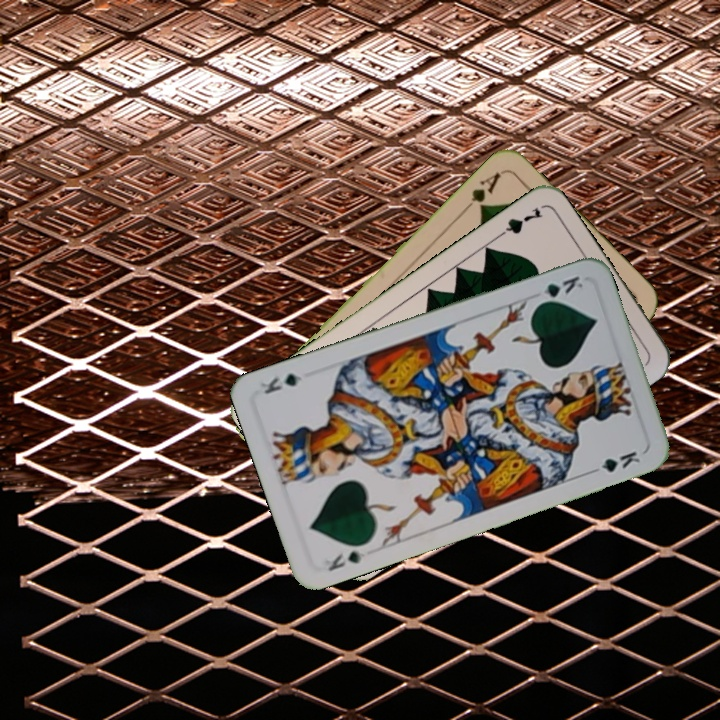G7: (491, 203, 546, 243)
GA: (459, 168, 506, 215)
GK: (532, 271, 586, 308), (320, 546, 368, 574)
